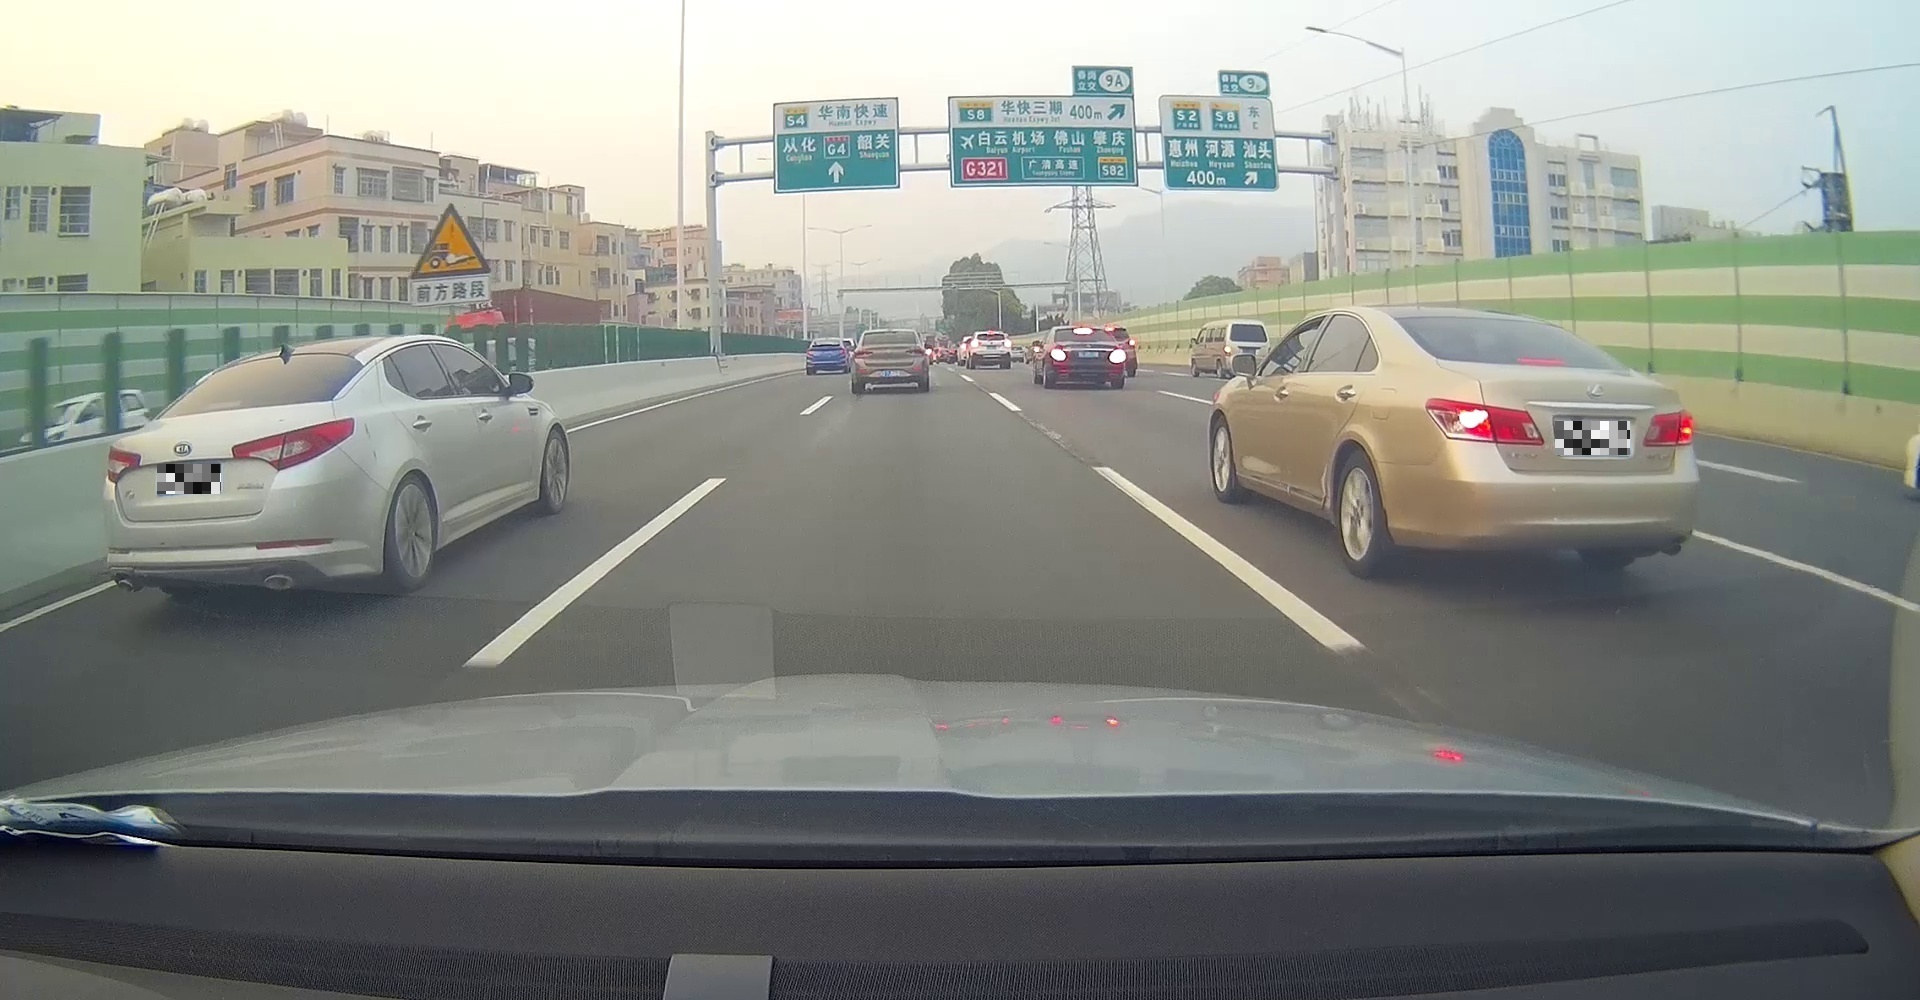L_light: (1425, 398, 1544, 445), (105, 445, 141, 484), (1050, 349, 1067, 360), (855, 349, 872, 357), (971, 340, 980, 346)
R_light: (232, 418, 354, 468), (1642, 409, 1694, 445), (1109, 349, 1125, 362), (905, 348, 924, 357), (1002, 340, 1010, 348)
T_light: (1517, 357, 1567, 367), (206, 398, 241, 412), (1074, 327, 1092, 334), (884, 331, 897, 336), (985, 332, 994, 335)
day-brake: (1392, 307, 1703, 576), (1048, 326, 1125, 390), (970, 332, 1011, 368)
day-no: (105, 335, 366, 602), (852, 327, 928, 391)
plate_1: (157, 464, 221, 494)
plate_2: (1556, 421, 1630, 456)
